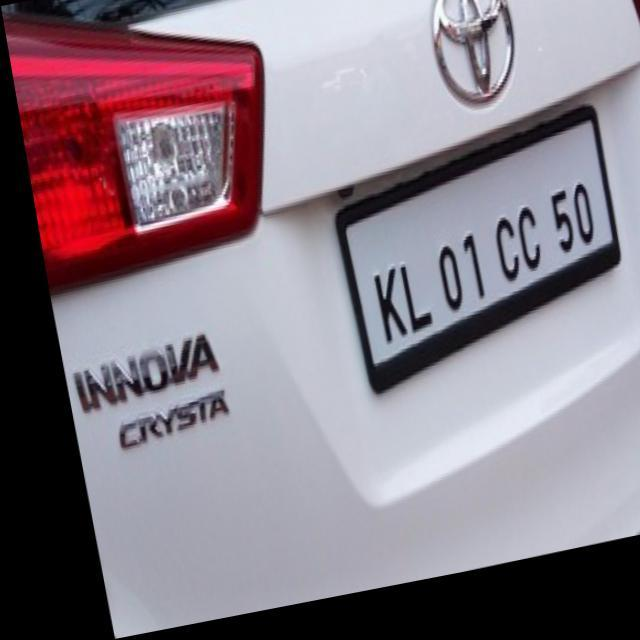license_plate: (317, 178, 598, 362)
